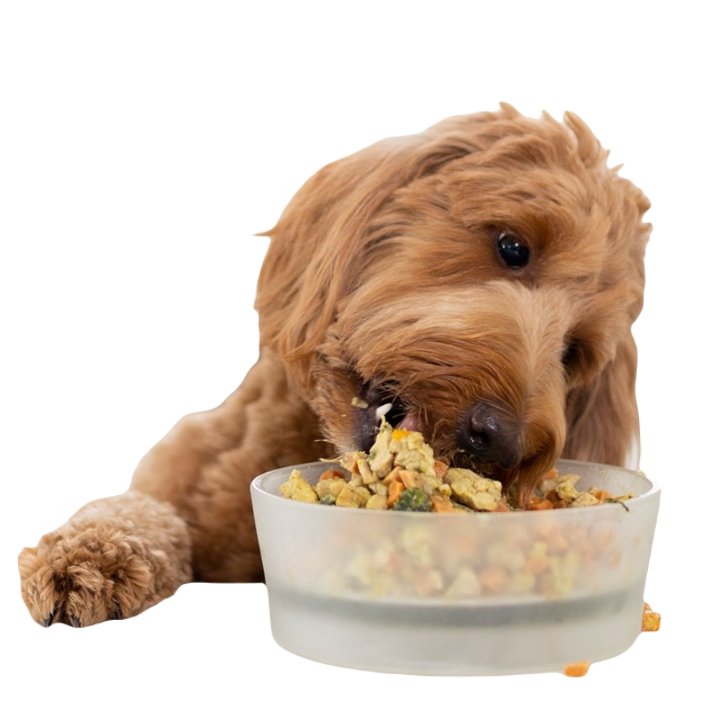Dog: (15, 92, 661, 676)
